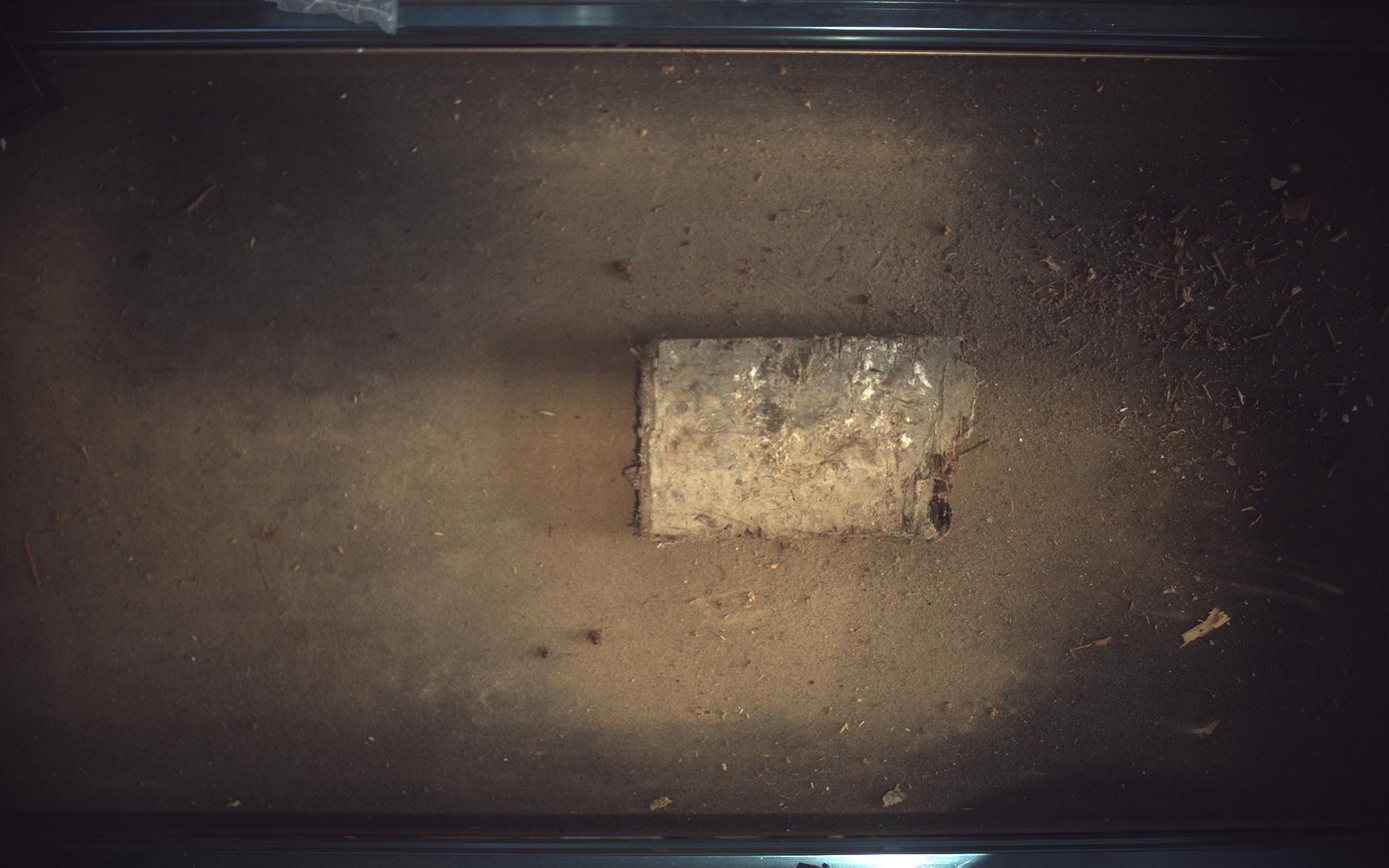wood: (636, 335, 979, 540)
